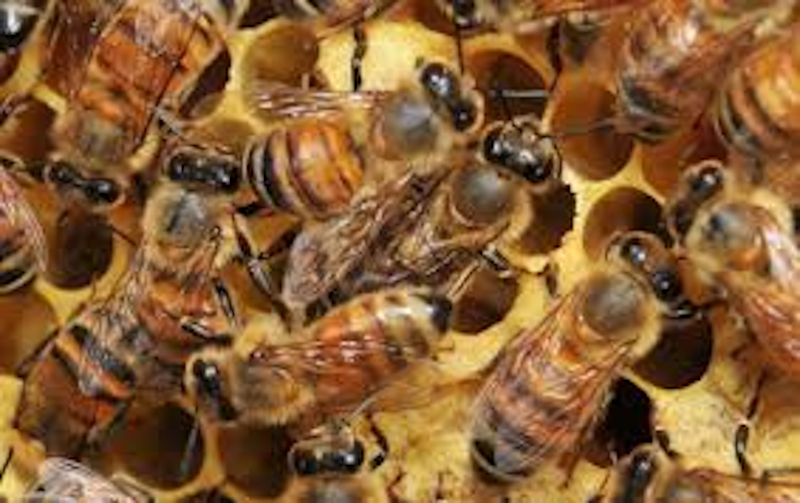abeja: (443, 221, 731, 492), (365, 103, 584, 329), (225, 54, 489, 227), (190, 278, 458, 444)
